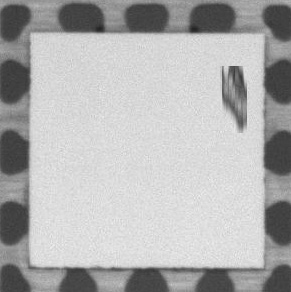DIE_INK: (219, 64, 246, 132)
